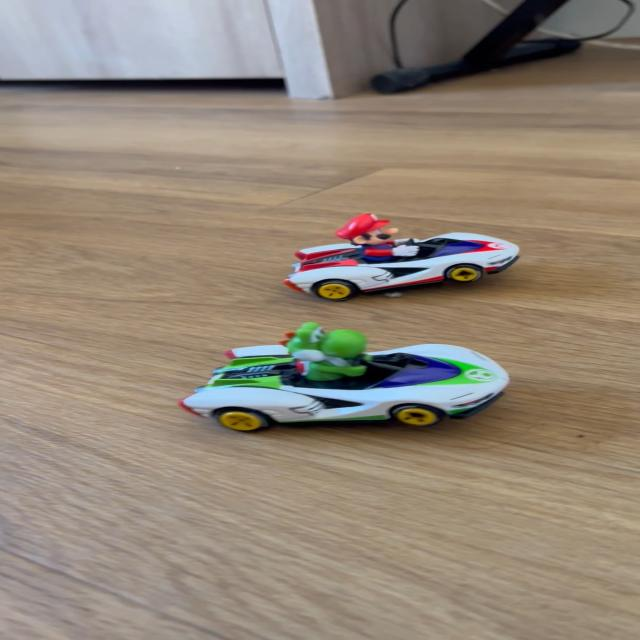mario: (273, 216, 531, 300)
yoshi: (168, 319, 531, 437)
